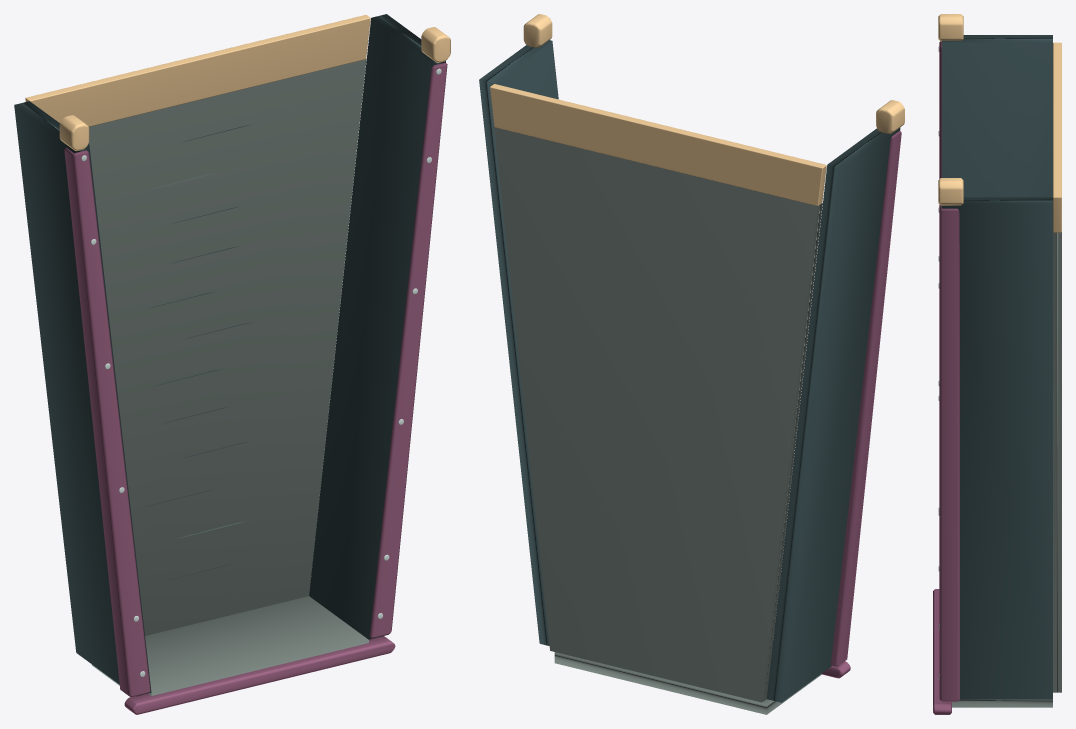
Rendered from container_hopper.glb.
The picture shows the model from 3 angles, left to right: view 1: azimuth 30°, elevation 25°; view 2: azimuth 150°, elevation 25°; view 3: azimuth 270°, elevation 25°; orthographic projection. The views are drawn at different scales.
Visible parts, largest first — view 1: Trapezoid metal back, Angled inner wall.001, Angled inner wall, Vending hopper floor, Candy enamel front rail, Candy enamel front rail.001; view 2: Trapezoid metal back, Angled inner wall, Angled inner wall.001, Candy enamel front rail, Vending hopper floor, Candy enamel front rail.001; view 3: Angled inner wall.001, Angled inner wall, Candy enamel front rail.001, Trapezoid metal back, Vending hopper floor, Candy enamel front rail.
Boxes of the visible parts, <box> form: Trapezoid metal back: <box>25,15,370,635</box>; Angled inner wall.001: <box>309,14,445,639</box>; Angled inner wall: <box>14,101,151,696</box>; Vending hopper floor: <box>91,596,395,714</box>; Candy enamel front rail: <box>59,115,150,697</box>; Candy enamel front rail.001: <box>369,27,450,638</box>; Trapezoid metal back: <box>490,84,826,702</box>; Angled inner wall: <box>766,128,900,702</box>; Angled inner wall.001: <box>479,40,558,645</box>; Candy enamel front rail: <box>831,100,904,666</box>; Vending hopper floor: <box>554,652,850,714</box>; Candy enamel front rail.001: <box>523,14,552,47</box>; Angled inner wall.001: <box>942,197,1052,699</box>; Angled inner wall: <box>942,35,1052,197</box>; Candy enamel front rail.001: <box>938,178,963,701</box>; Trapezoid metal back: <box>1053,42,1061,692</box>; Vending hopper floor: <box>933,589,1052,714</box>; Candy enamel front rail: <box>938,14,963,571</box>.
Bounding box in the file's own units: 7.35 × 11.14 × 2.32.
